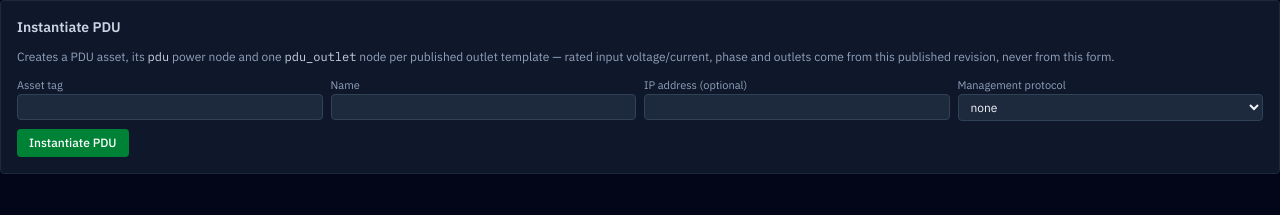
Test: PduInstantiatePanel › surfaces the backend's rejection of a revision that cannot be instantiated
The image size is (1280, 215).
Step 1. Type "PDU-001" into the field labelled "Asset tag" → (170, 106), box [17,94,322,120]
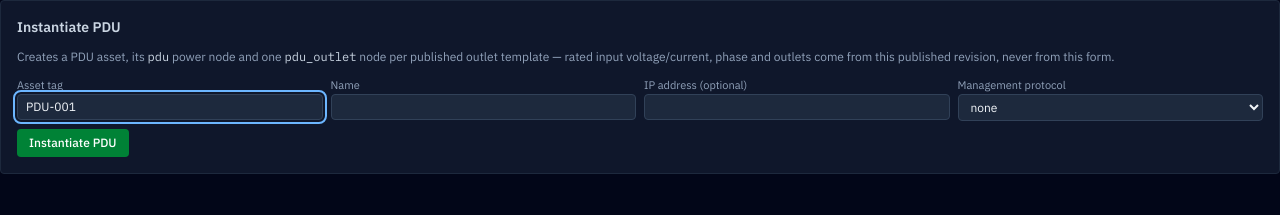
Step 2. Type "Rack PDU A" into the field labelled "Name" → (483, 106), box [330,94,636,120]
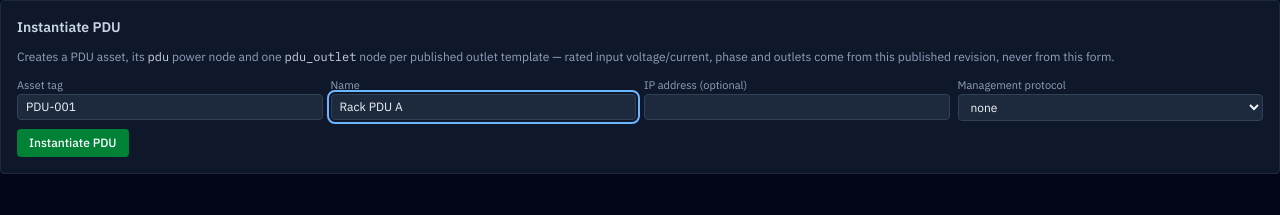
Step 3. Click the button "Instantiate PDU" → (73, 142), box [17,128,129,156]
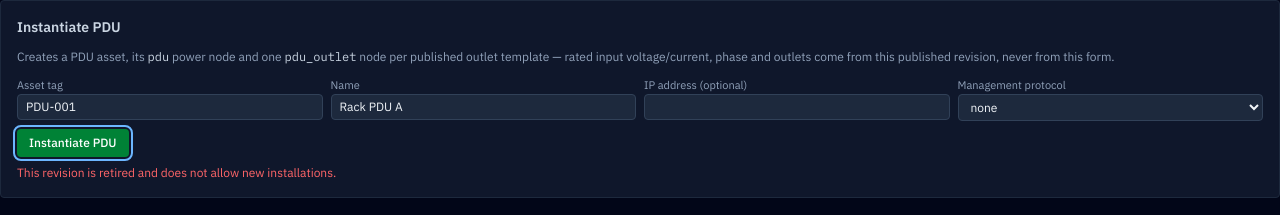
Result: the message reads "This revision is retired and does not allow new installations." at [17,164,336,180]
